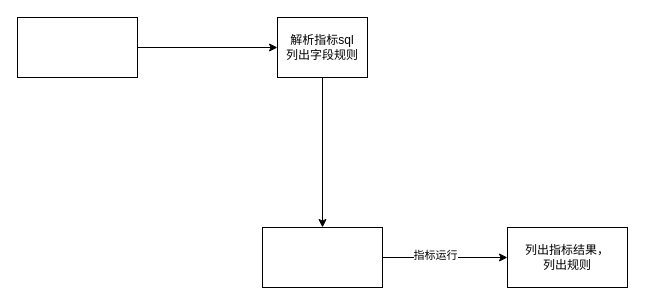
Some shapes in this 645 by 305 pixel diagram are drawn without their labels. The shapes that lost their labels are listed below. From the top down, each one's box as (x1, y1, x2, y2) in pixels, then its label:
(16, 16, 138, 78): 指标配置
(262, 226, 382, 288): 指标配置告警
